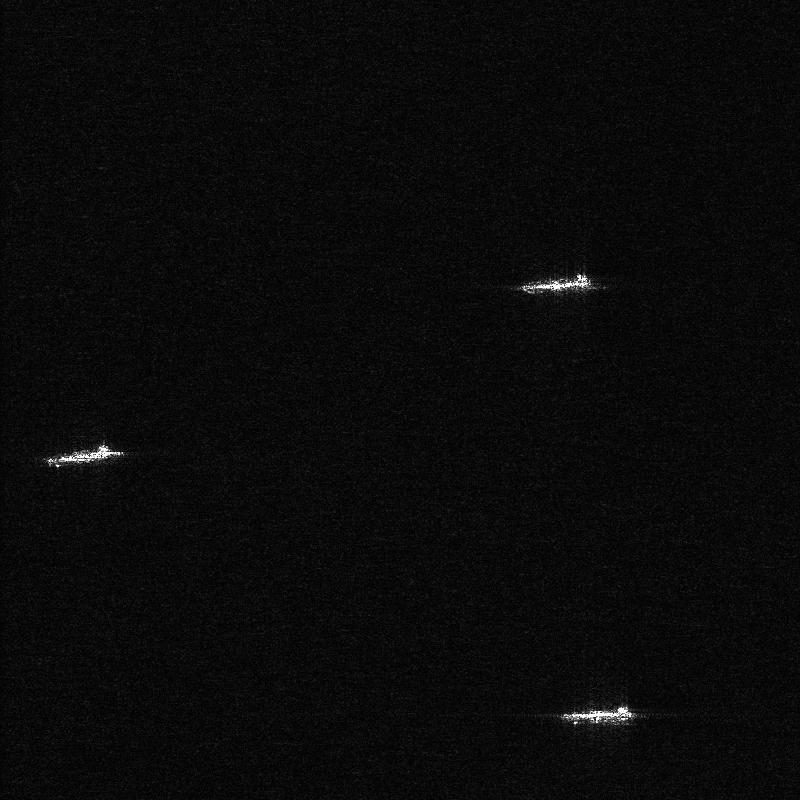ship: (45, 444, 124, 467), (520, 273, 590, 293), (561, 706, 633, 724)
